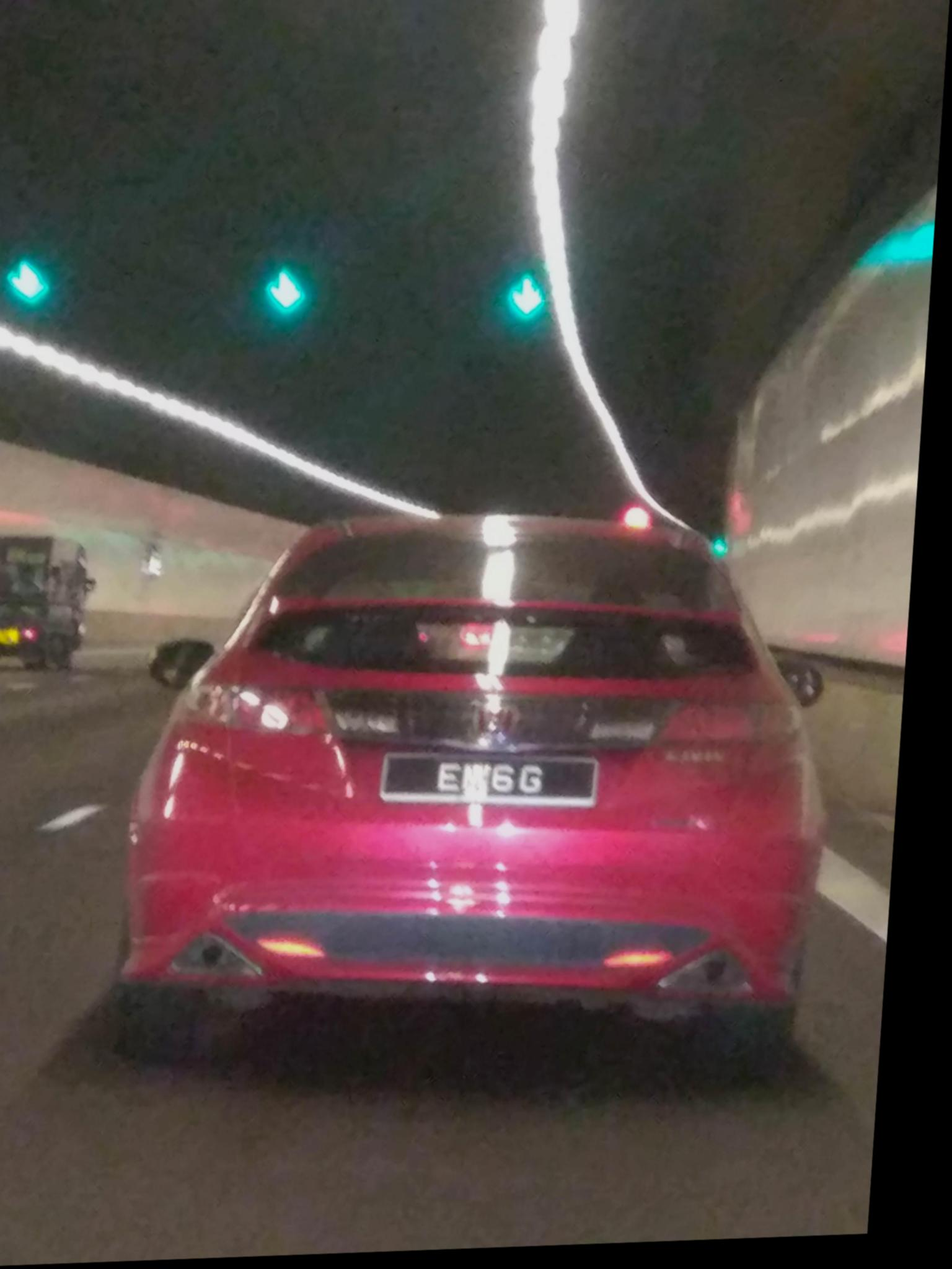License_Plate: (372, 738, 611, 824)
